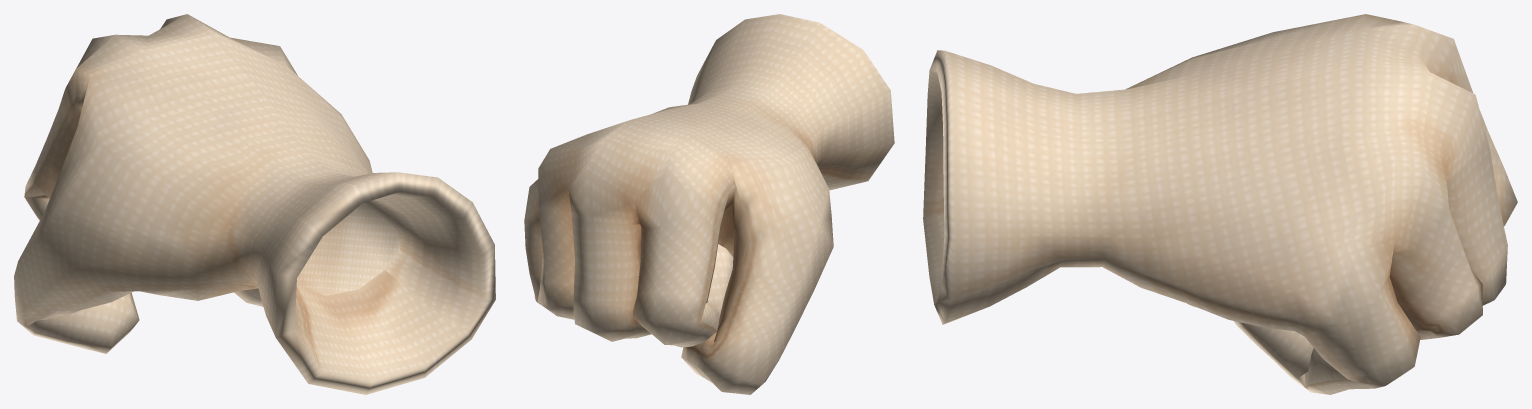
File: Hand_R.fbx
3 views of the same model, side by side, from view 1: azimuth 30°, elevation 25°; view 2: azimuth 150°, elevation 25°; view 3: azimuth 270°, elevation 25° (orthographic). The views are drawn at different scales.
Parts seen in each view (by area): view 1: Hand_R; view 2: Hand_R; view 3: Hand_R.
Part boxes in pixels (x1,y1,x2,y2): Hand_R: (14,14,495,394); Hand_R: (524,14,894,394); Hand_R: (923,14,1517,394).
Size of the model in its own units: 23.53 by 19.98 by 32.78.
